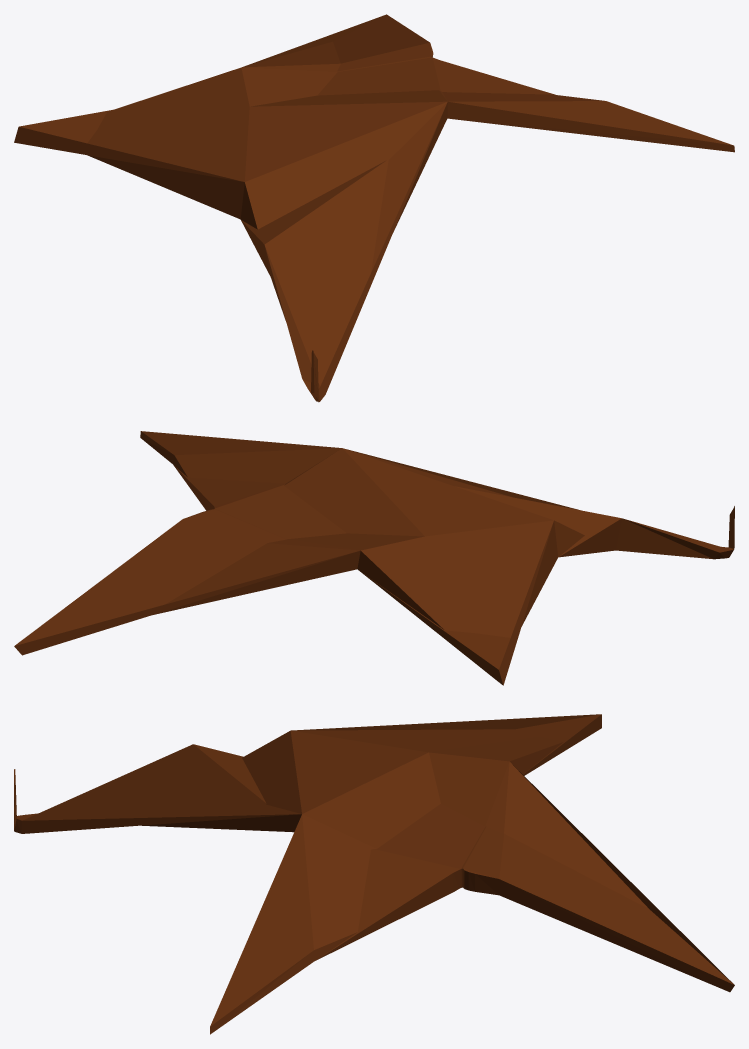
The model's file is apple.fbx.
3 views of the same model, one above another, from view 1: azimuth 30°, elevation 25°; view 2: azimuth 150°, elevation 25°; view 3: azimuth 270°, elevation 25° (orthographic). The views are drawn at different scales.
Visible parts, largest first — view 1: Extrude; view 2: Extrude; view 3: Extrude.
Part boxes in pixels (bbox=[...]): Extrude: bbox=[14, 14, 734, 402]; Extrude: bbox=[14, 431, 734, 685]; Extrude: bbox=[14, 714, 734, 1034].
Size of the model in its own units: 17.18 by 4.29 by 17.87.
